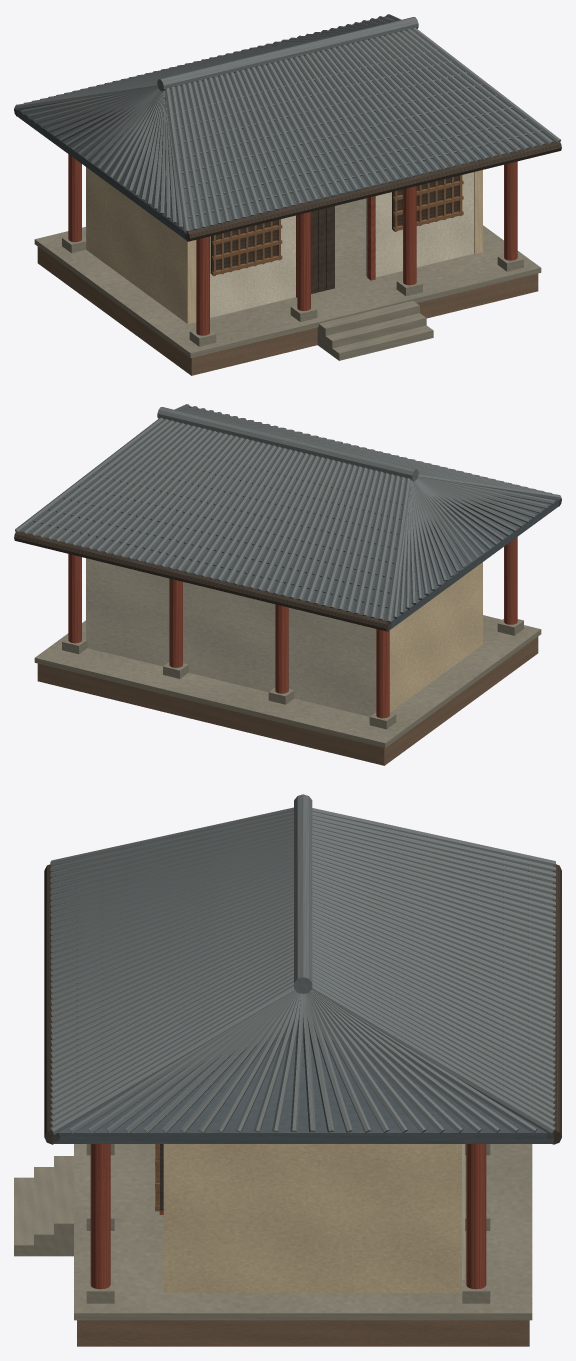
The model's file is han_house.glb.
The picture shows the model from 3 angles, top to bottom: view 1: azimuth 30°, elevation 25°; view 2: azimuth 150°, elevation 25°; view 3: azimuth 270°, elevation 25°; orthographic projection. The views are drawn at different scales.
Visible parts, largest first — view 1: han_house; view 2: han_house; view 3: han_house.
Boxes of the visible parts, left/top/right/bottom form: han_house: left=14, top=14, right=561, bottom=375; han_house: left=14, top=404, right=561, bottom=765; han_house: left=14, top=794, right=561, bottom=1346.
Bounding box in the file's own units: 7.98 × 4.64 × 6.84.
Materials: 1 (1 with a texture image).
